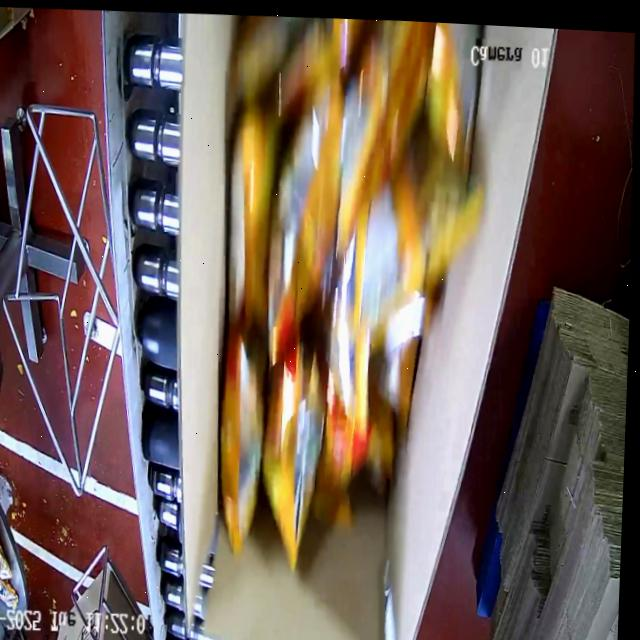FRENCH_CHEESE: (201, 12, 515, 596)
